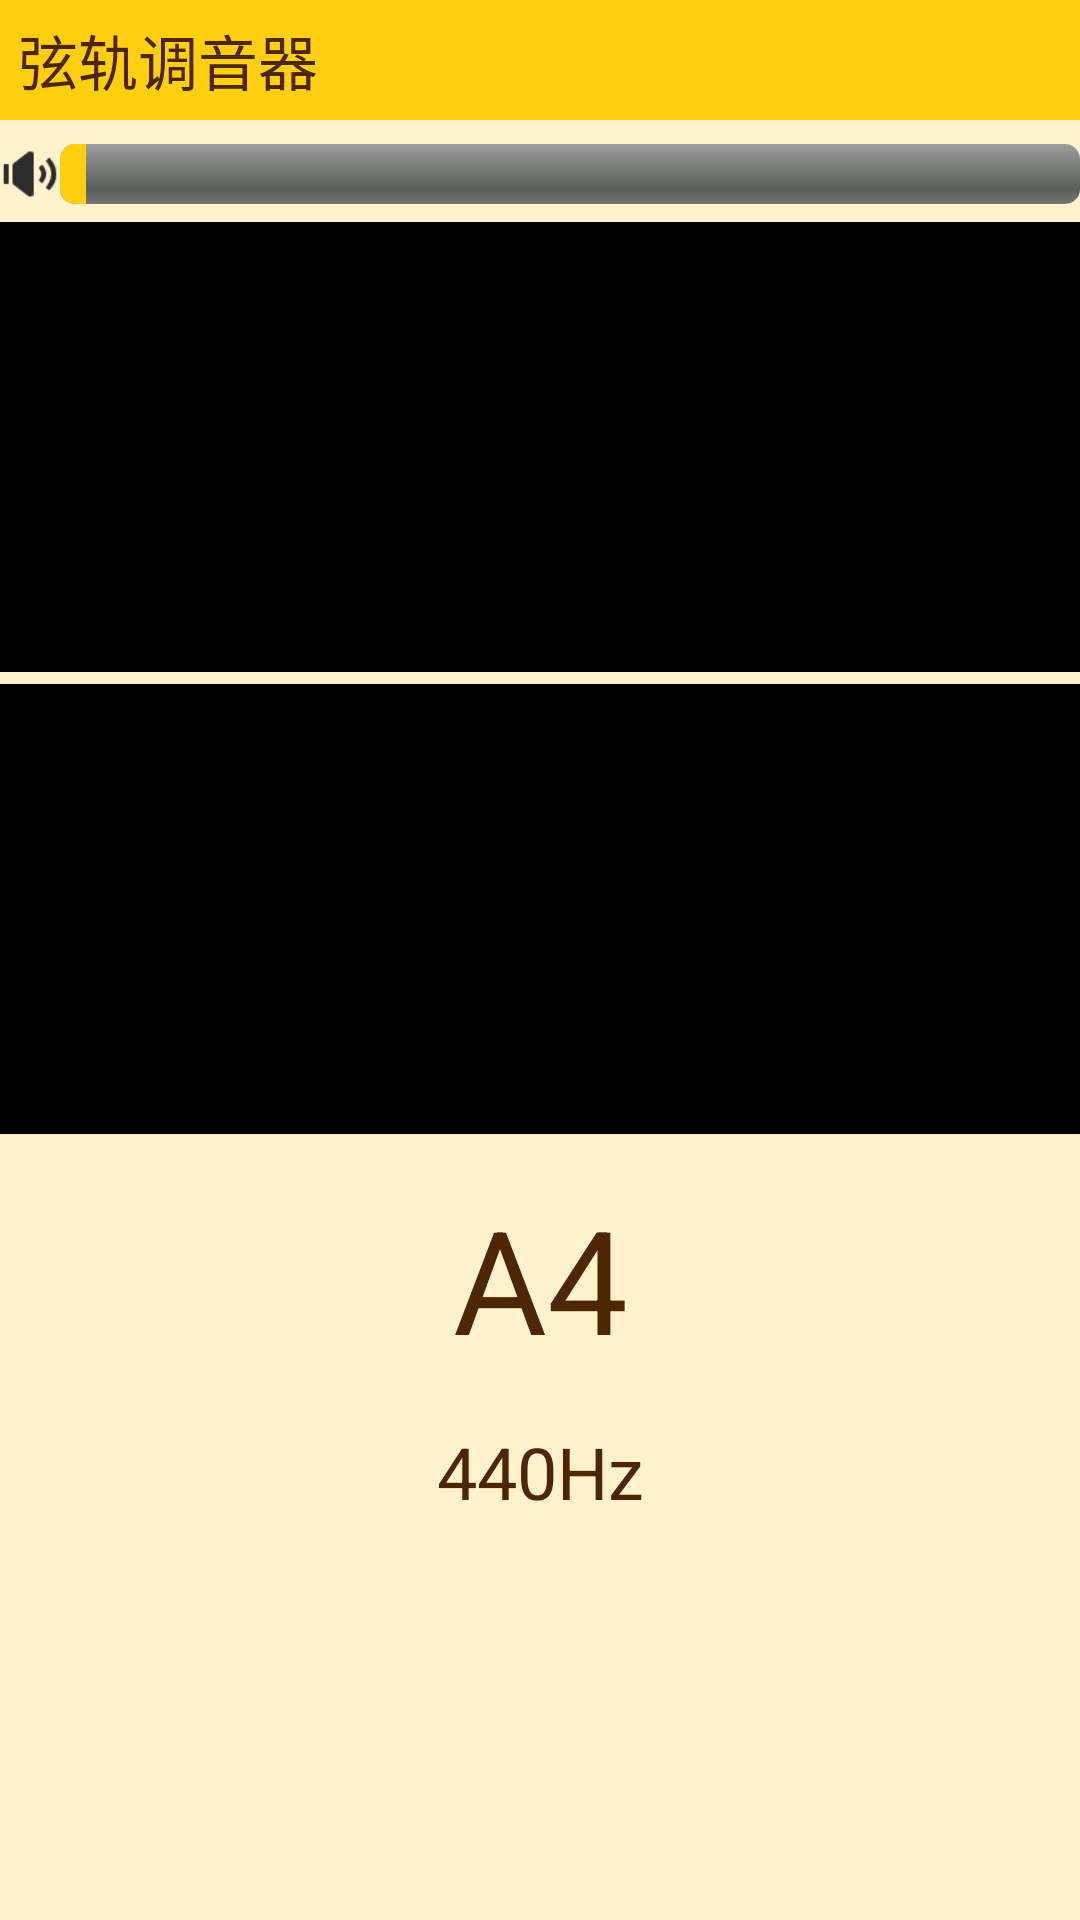

Screen size 1080 × 1920. Icon name, then its center in pixels as (x=x, y=y):
volume: (x=30, y=174)
